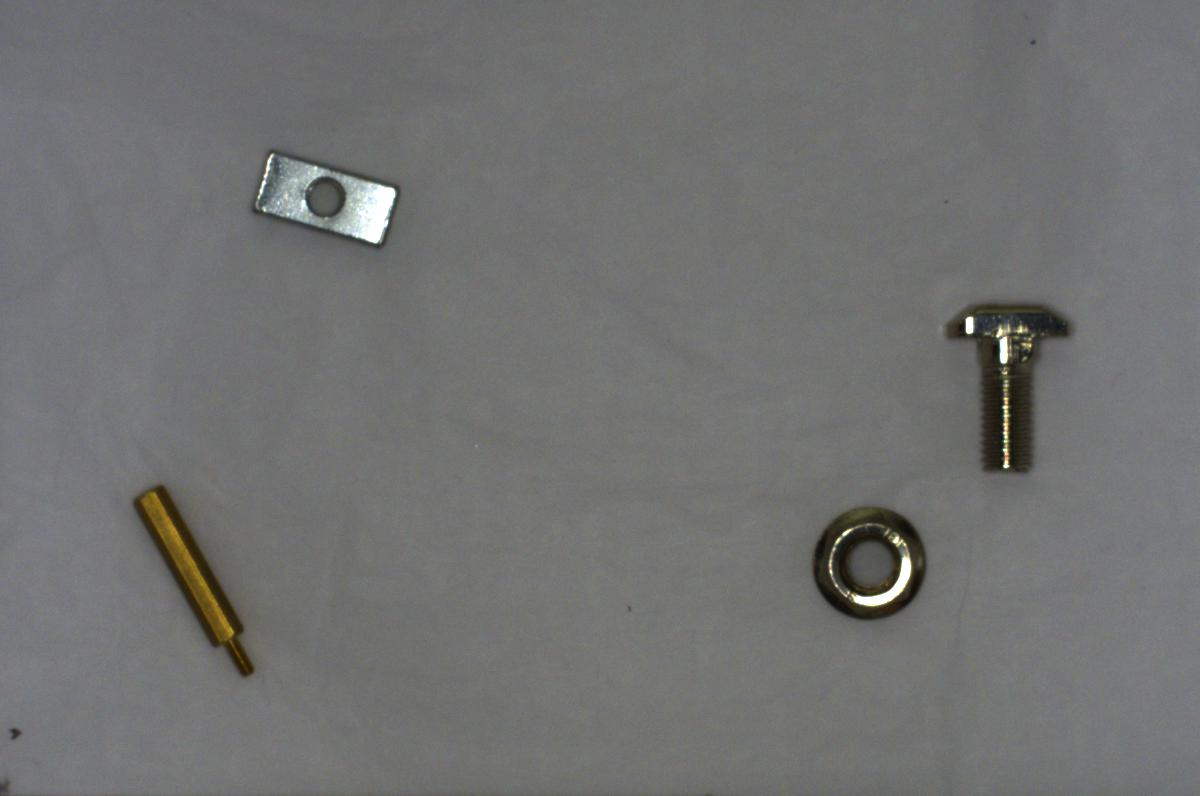Flange nut: (802, 494, 939, 621)
Hexagon pillar: (135, 481, 254, 681)
Rectangular nut: (244, 142, 401, 250)
T-shaped screw: (945, 289, 1075, 485)
